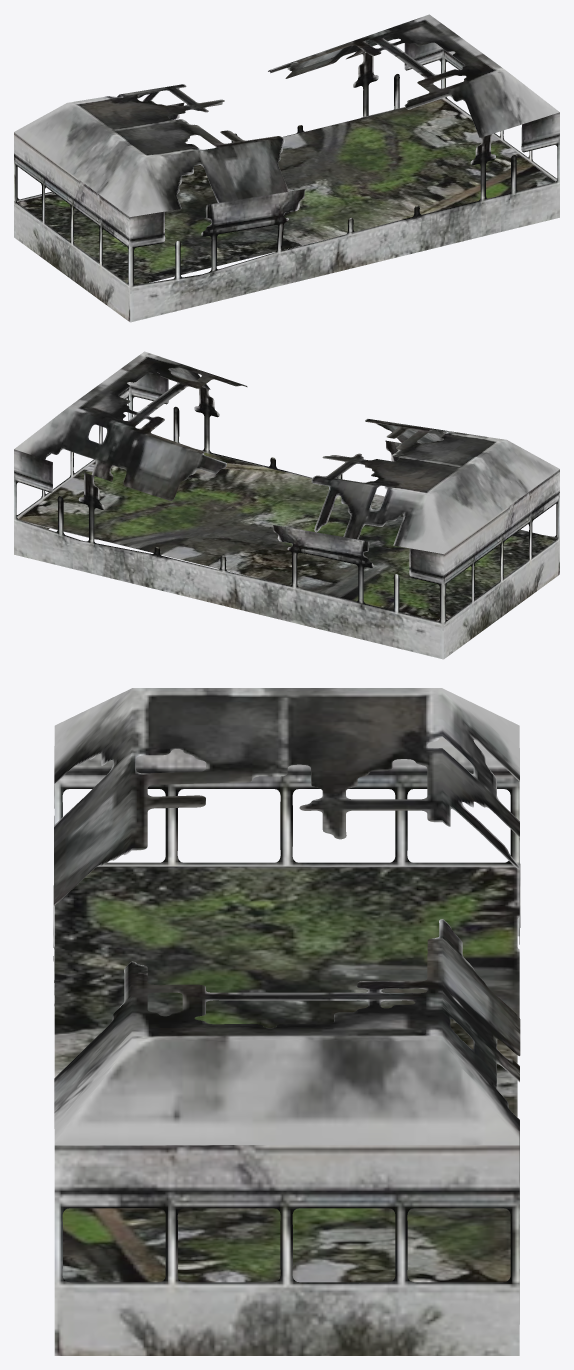
The model's file is walkway_dam_hdtex.glb.
The picture shows the model from 3 angles, top to bottom: view 1: azimuth 30°, elevation 25°; view 2: azimuth 150°, elevation 25°; view 3: azimuth 270°, elevation 25°; orthographic projection. The views are drawn at different scales.
Visible parts, largest first — view 1: outside; view 2: outside; view 3: outside.
Part boxes in pixels (<box>): outside: <box>14,14,559,322</box>; outside: <box>14,351,559,659</box>; outside: <box>53,688,520,1355</box>.
Bounding box in the file's own units: 25.6 × 8 × 12.05.
1 material, 1 textured.
